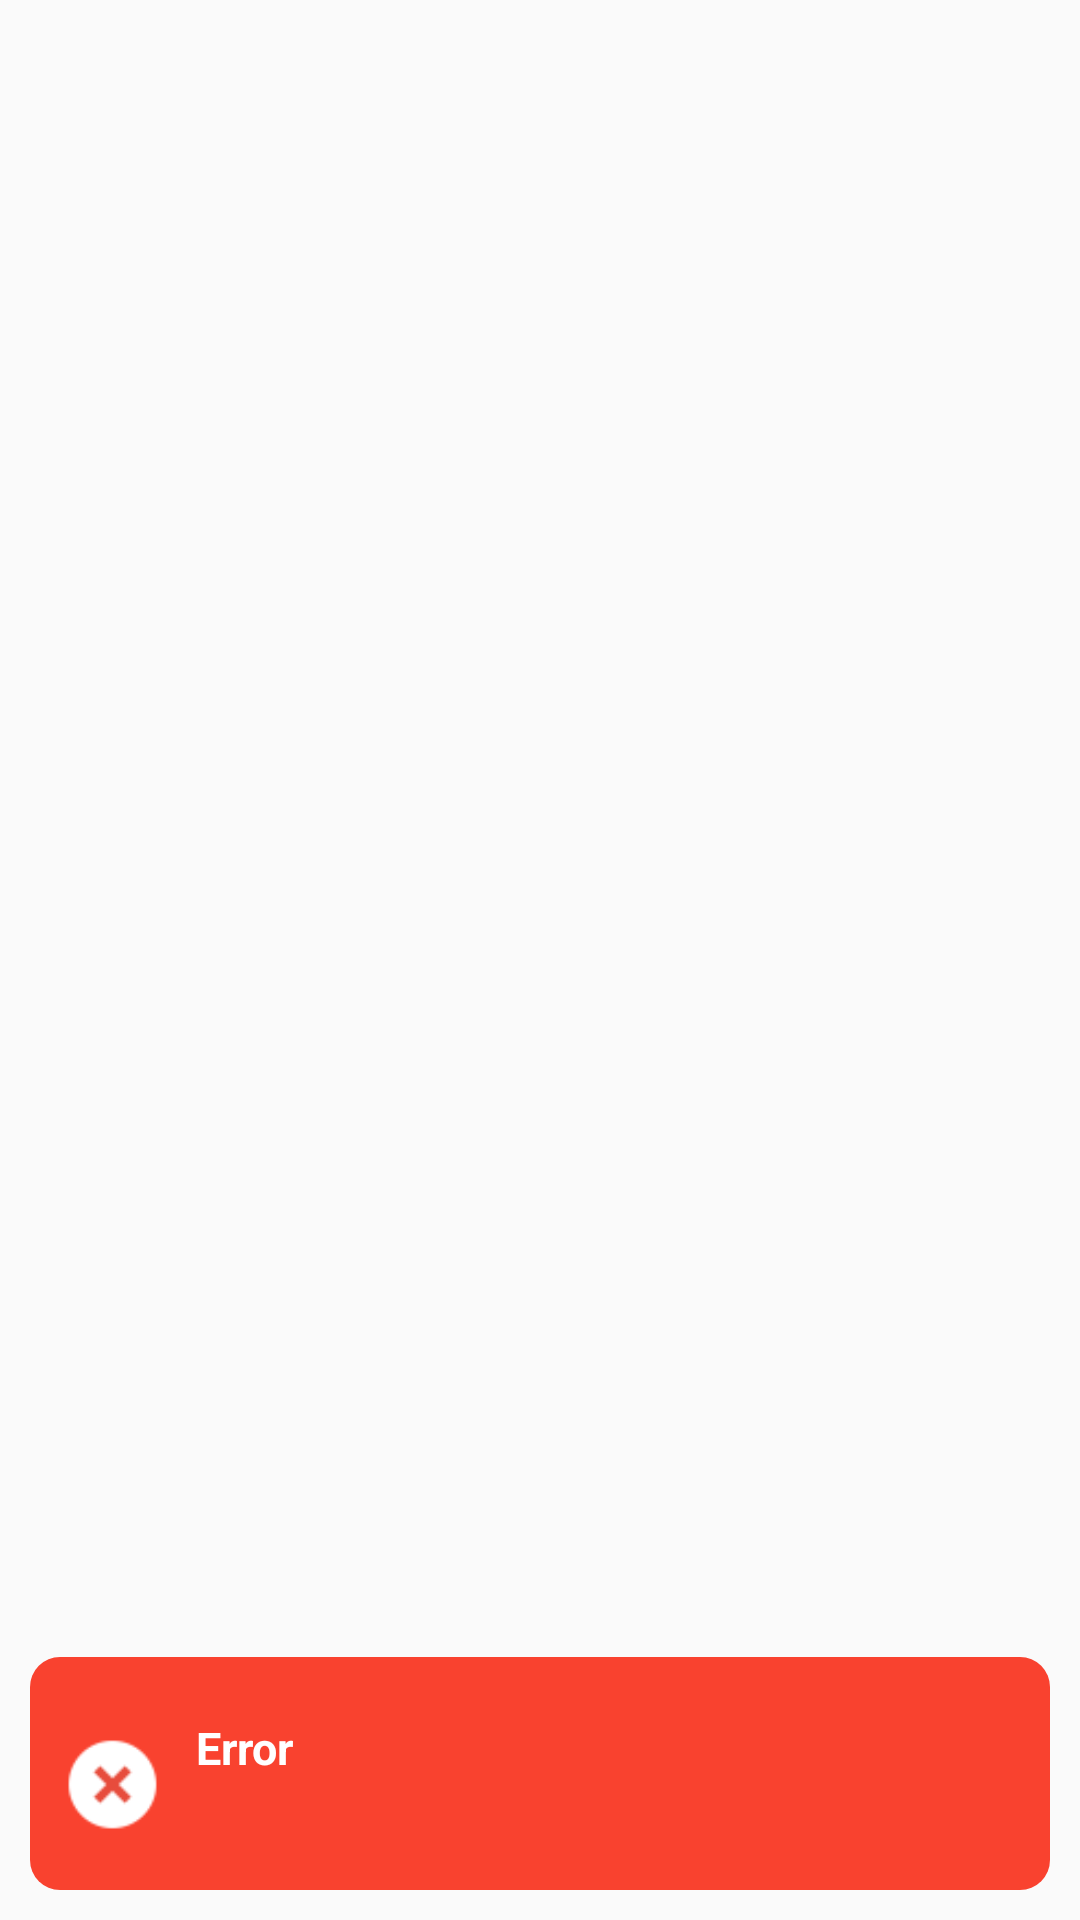

Where icons sit on this 1080x1920 app screen, as {"x1": x1, "y1": y1, "x2": x2, "y2": y2}:
cross: {"x1": 68, "y1": 1740, "x2": 157, "y2": 1829}
